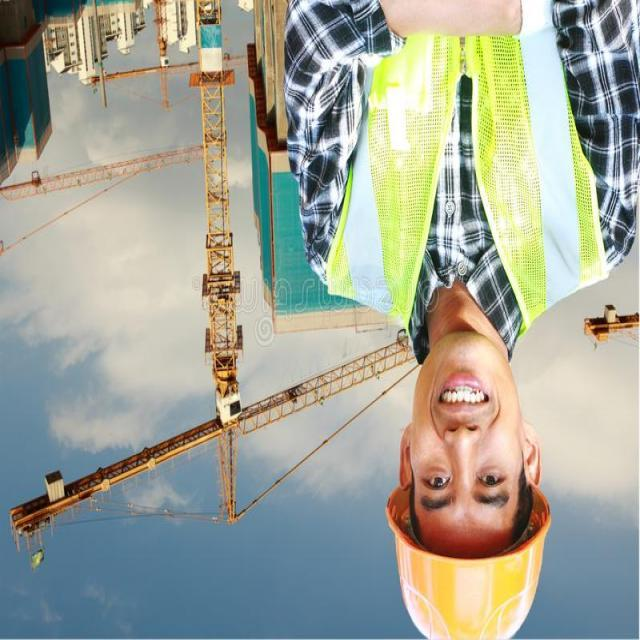safetyhelmet: (384, 437, 565, 640)
